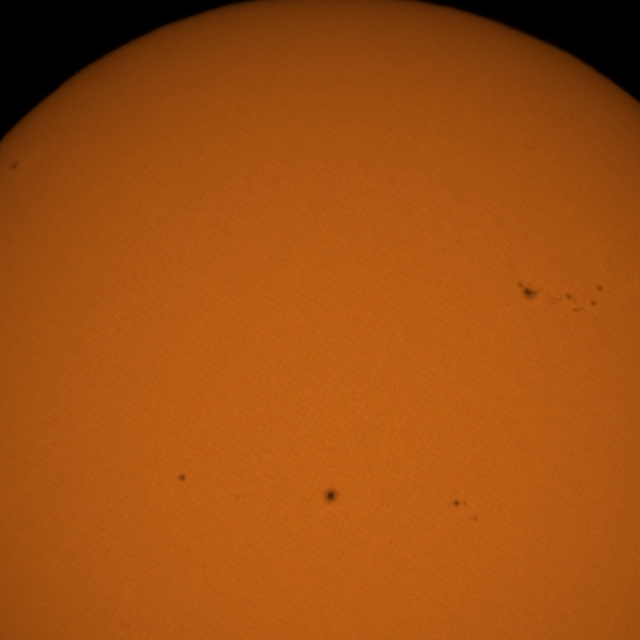sunspot: (564, 290, 600, 312), (517, 280, 544, 302), (564, 292, 583, 312), (322, 486, 340, 506), (588, 288, 601, 309), (592, 284, 604, 302), (452, 499, 468, 509), (176, 473, 187, 484), (594, 284, 604, 293), (10, 161, 18, 171)
